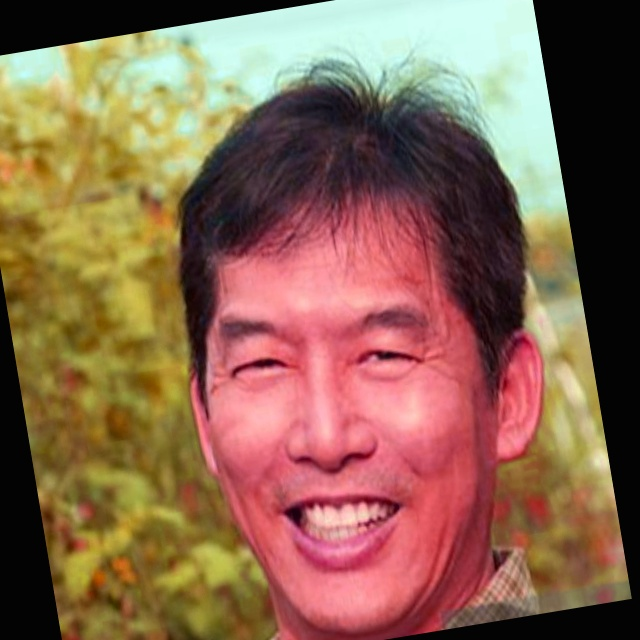Sin_Casco_Mascarrilla: (139, 45, 579, 640)
